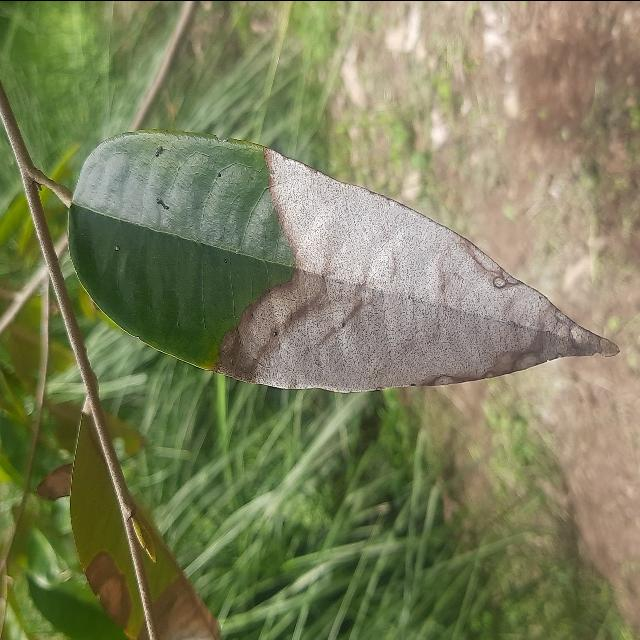Leaf Blight: (55, 123, 625, 407)
